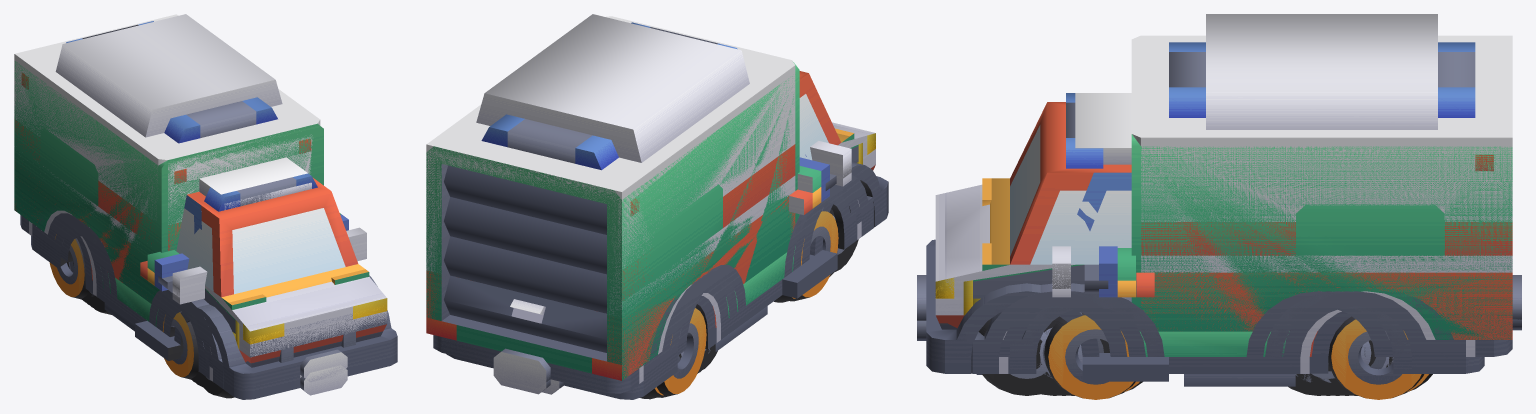
Rendered from cars.glb.
The picture shows the model from 3 angles, left to right: view 1: azimuth 30°, elevation 25°; view 2: azimuth 150°, elevation 25°; view 3: azimuth 270°, elevation 25°; orthographic projection. The views are drawn at different scales.
Visible parts, largest first — view 1: body (×11), wheel-front-right, wheel-back-right, grill; view 2: body (×10), door, wheel-back-right, wheel-front-right; view 3: body (×12), wheel-front-left (×3), wheel-back-left (×2).
Boxes of the visible parts, x1,y1,x2,y2 form: body (×11): [14, 14, 397, 399]; wheel-front-right: [162, 311, 198, 379]; wheel-back-right: [49, 234, 89, 299]; grill: [279, 332, 355, 377]; body (×10): [426, 14, 888, 399]; door: [444, 165, 606, 352]; wheel-back-right: [655, 307, 706, 397]; wheel-front-right: [787, 211, 838, 301]; body (×12): [917, 14, 1521, 386]; wheel-front-left (×3): [978, 313, 1135, 399]; wheel-back-left (×2): [1296, 316, 1424, 399].
Bounding box in the file's own units: 1.5 × 1.8 × 3.25.
1 material, 1 textured.
